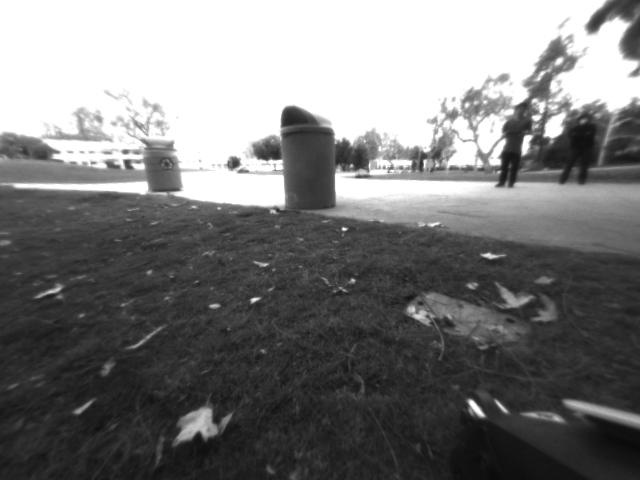trashcan: (273, 94, 347, 214)
